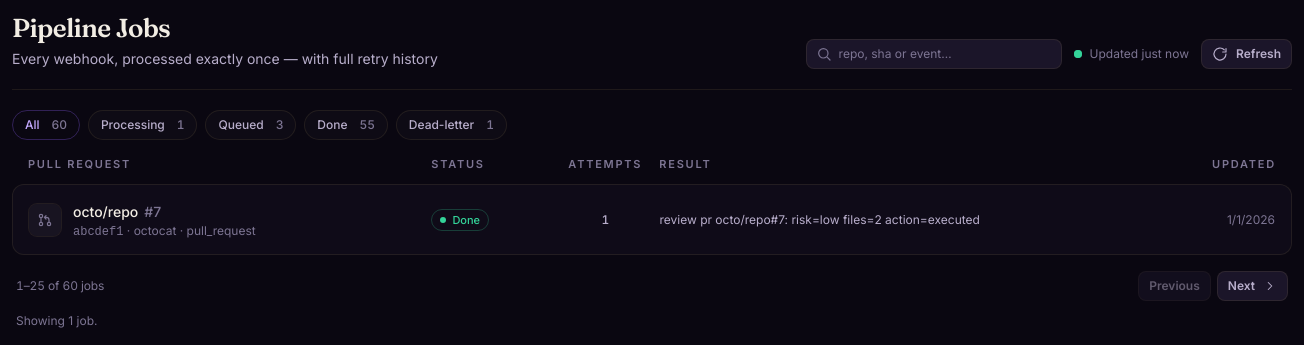
Scenario: Jobs › asks the API for the first page and pages forward
Expected: the text "octo/repo" is shown, [73,202,138,222]
Click the button "Next".
click(1252, 286)  # box [1217,271,1288,301]
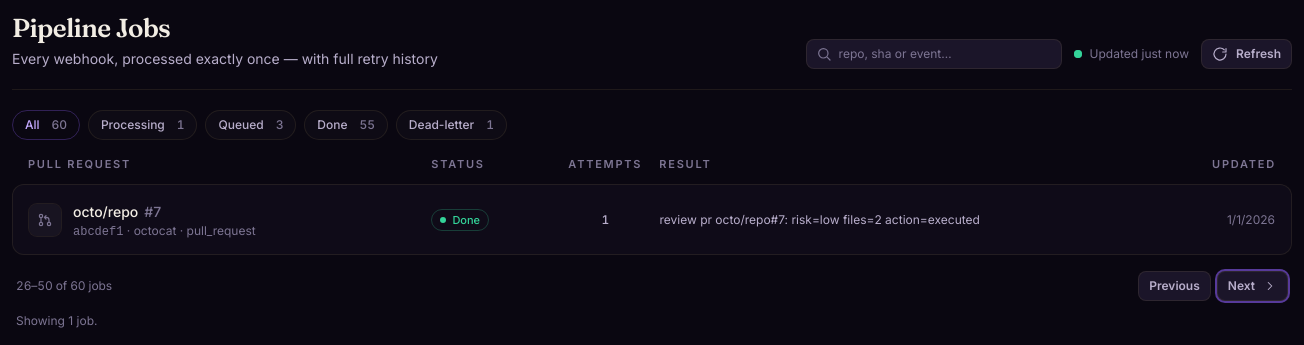
Expected: the text "26–50 of 60 jobs" is shown, [16,278,112,294]
